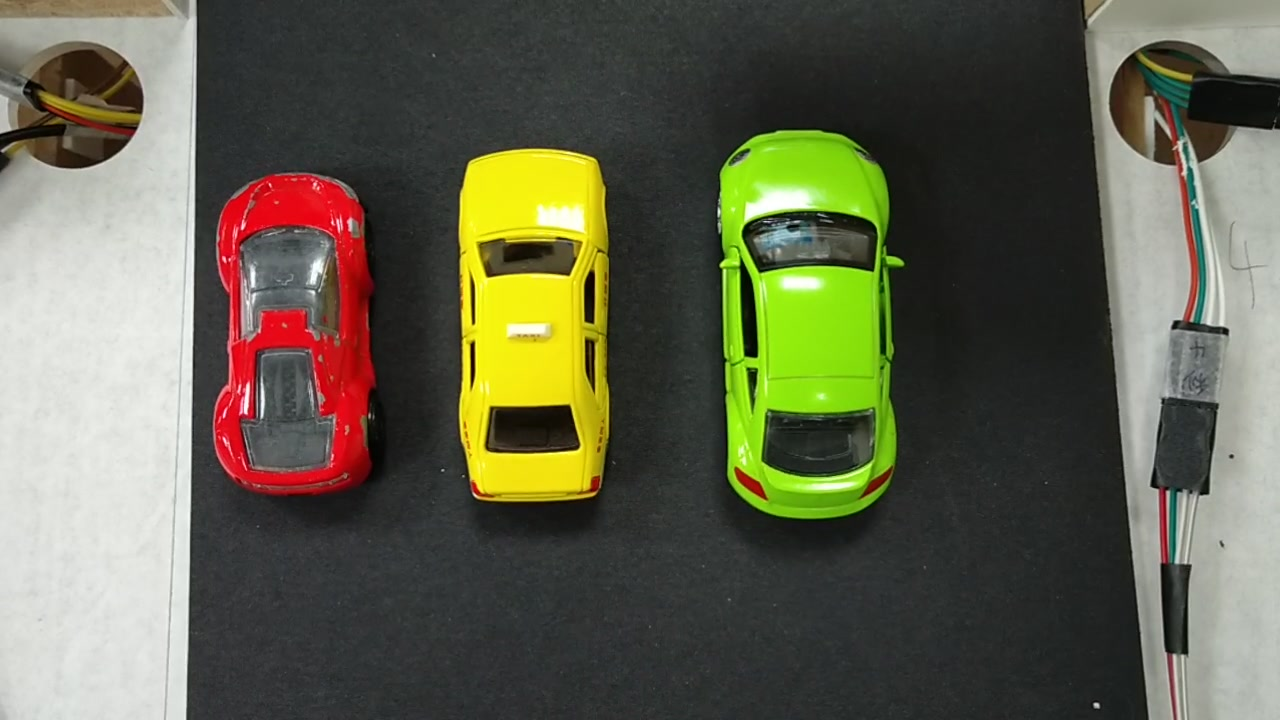car: (720, 126, 901, 517), (462, 153, 614, 506), (220, 174, 373, 491)
